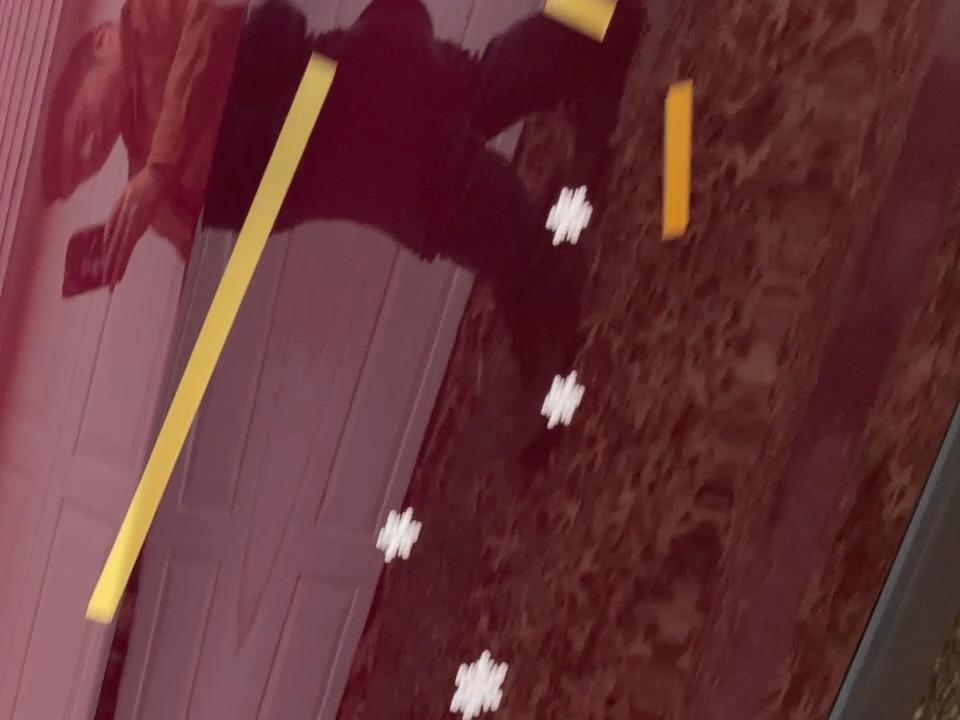dent: (446, 646, 513, 720), (541, 171, 600, 255), (371, 494, 431, 572), (534, 364, 598, 437), (0, 398, 6, 485)
scratch: (69, 44, 347, 632), (646, 74, 722, 243)
